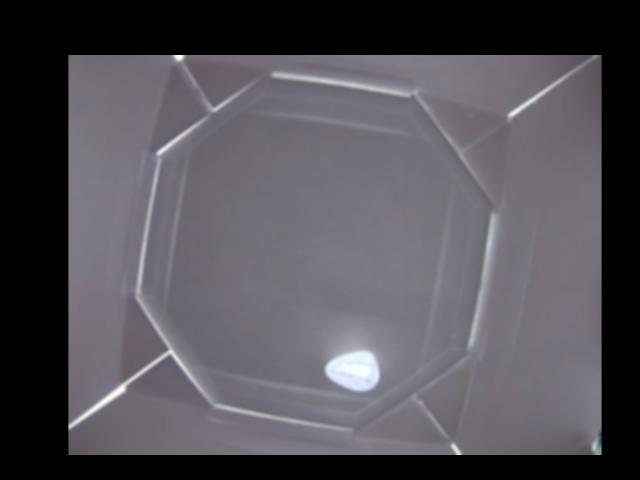Pebble: (327, 351, 381, 390)
